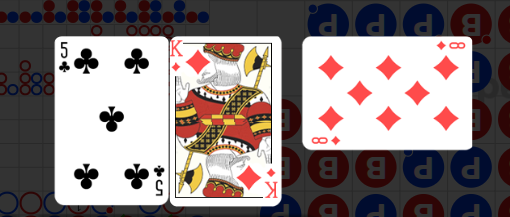5C: (152, 163, 166, 198)
8D: (434, 40, 466, 52), (311, 135, 342, 146)
